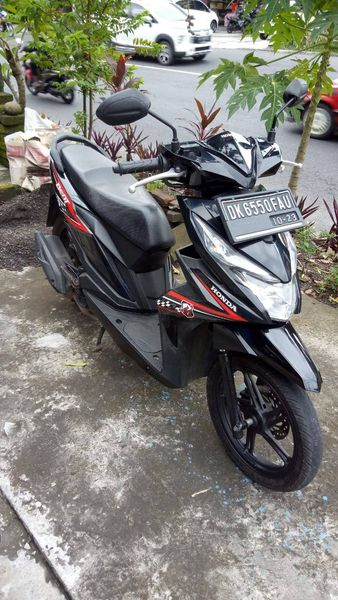plate: (213, 191, 311, 235)
